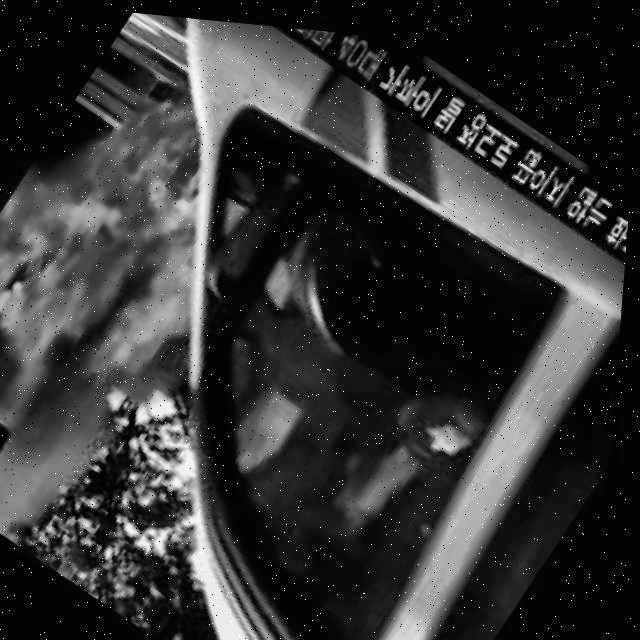Fire: (0, 29, 307, 433), (0, 331, 71, 447), (0, 432, 2, 511)
Smoke: (0, 381, 129, 562)
